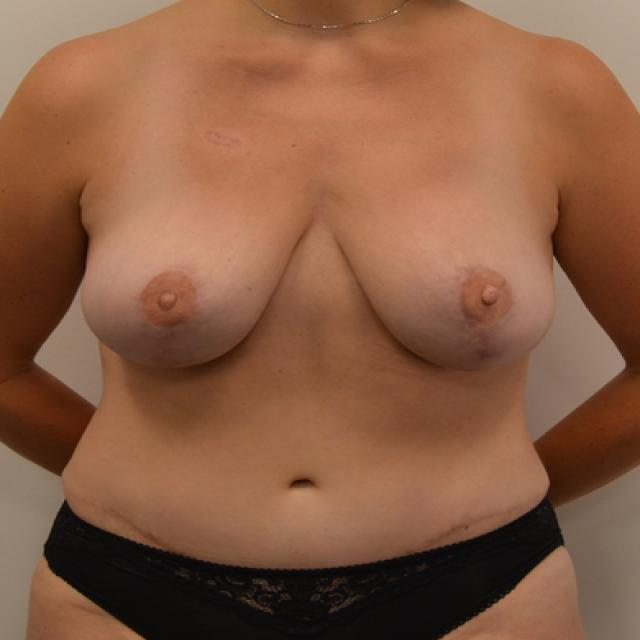Seno herido: (71, 159, 317, 391), (327, 157, 566, 392)
